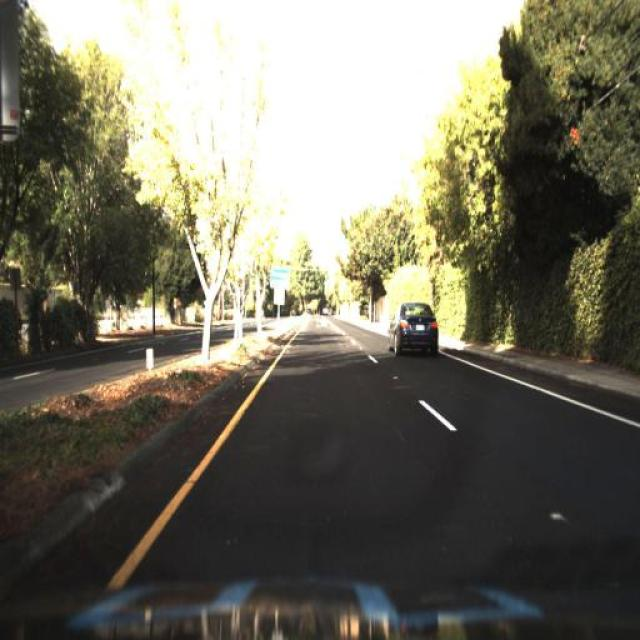car: (387, 298, 438, 352)
